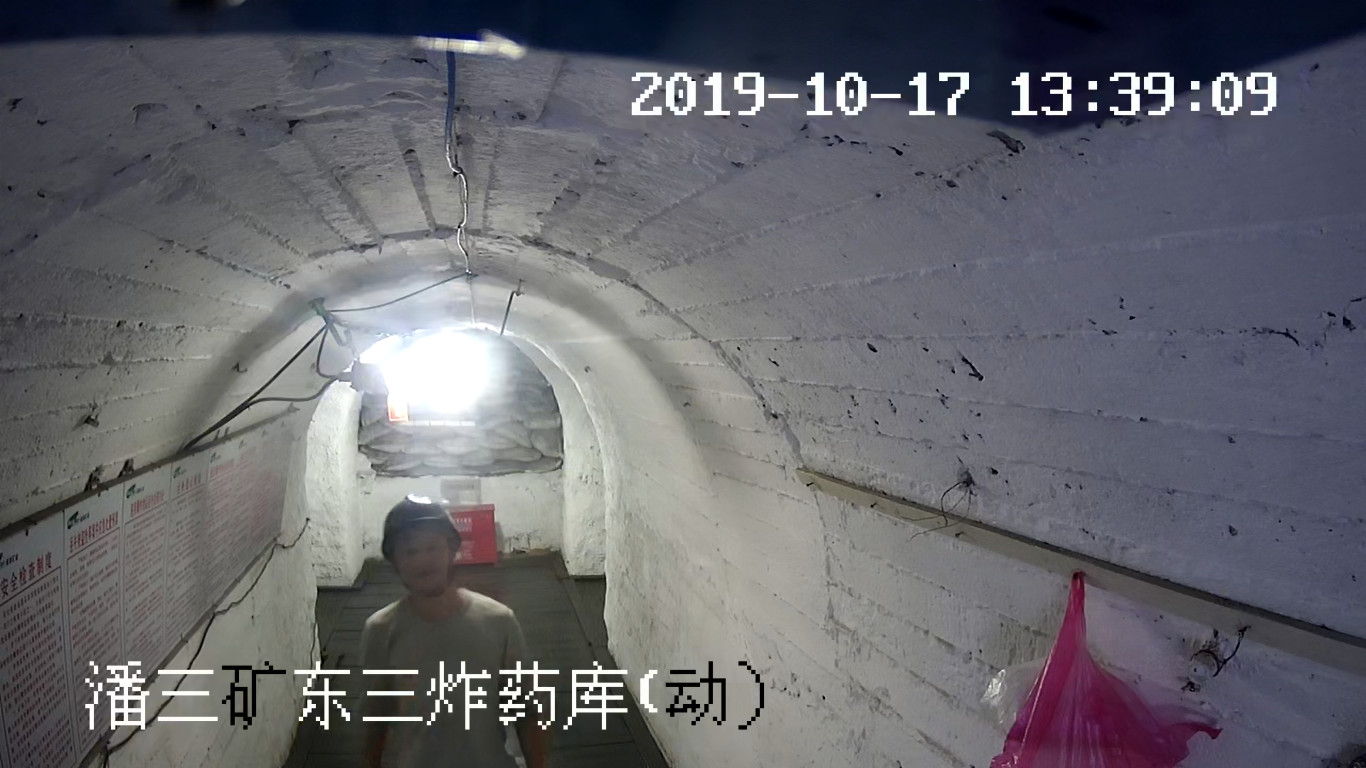helmet: (381, 493, 462, 565)
